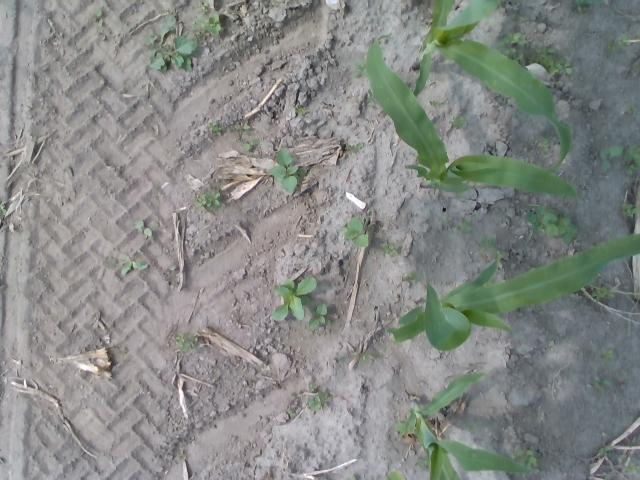Maize: (363, 31, 582, 204), (383, 231, 640, 353), (408, 0, 572, 172), (385, 371, 541, 480)
Weeds: (142, 13, 198, 72), (268, 275, 316, 323), (526, 204, 580, 246), (267, 148, 308, 195), (530, 45, 572, 76), (497, 30, 529, 66), (339, 217, 372, 247), (190, 12, 222, 38), (118, 253, 150, 276), (598, 144, 622, 172), (194, 190, 222, 211), (444, 215, 472, 235), (173, 331, 199, 352), (512, 448, 539, 468), (307, 390, 330, 412), (624, 144, 640, 175), (606, 34, 630, 54), (570, 0, 604, 13), (310, 303, 328, 327), (590, 286, 616, 302), (134, 219, 152, 237), (477, 236, 496, 253), (380, 243, 399, 258), (448, 115, 468, 129), (352, 61, 368, 78), (240, 138, 260, 151), (620, 204, 637, 219), (401, 271, 419, 285), (594, 378, 610, 392), (234, 122, 251, 135), (208, 121, 222, 136), (538, 137, 550, 154), (344, 142, 364, 152), (93, 8, 104, 26), (360, 352, 374, 364), (196, 0, 210, 12), (602, 350, 614, 363), (598, 444, 612, 455), (511, 12, 525, 23), (625, 104, 638, 115), (416, 458, 428, 469), (428, 100, 443, 108), (629, 462, 638, 475), (294, 106, 307, 115), (288, 409, 298, 419), (308, 383, 318, 392), (0, 202, 6, 216), (466, 422, 474, 430), (348, 474, 357, 480), (634, 66, 640, 74), (634, 32, 640, 40)
